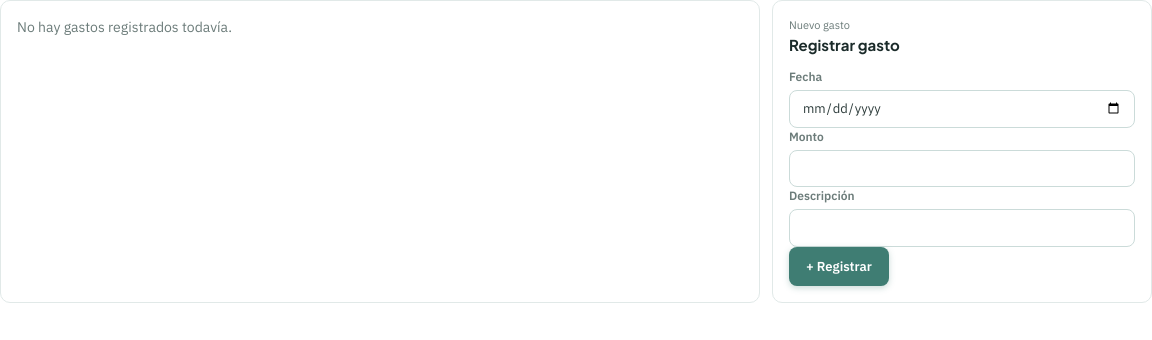
Test: GastosVehiculo › bloquea el alta con monto inválido y muestra el error
The image size is (1152, 340).
Step 1. Type "2026-07-01" into the date field labelled "Fecha" → (962, 109), box [789,90,1135,128]
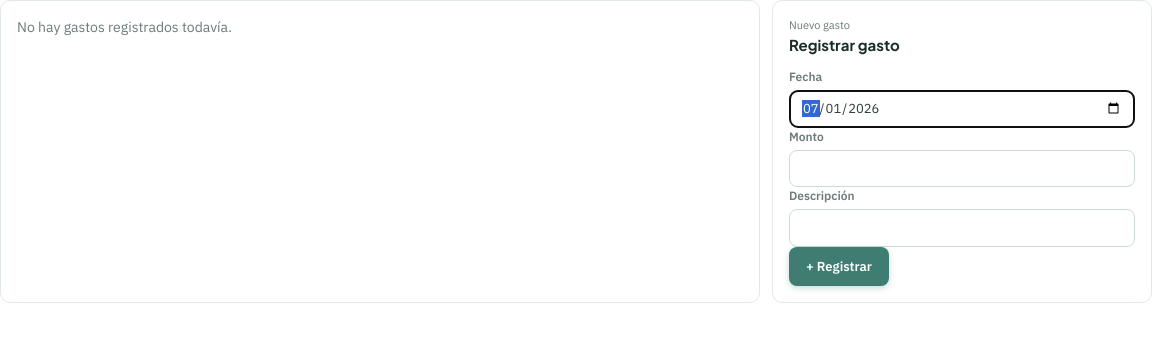
Step 2. Click the button "+ Registrar" → (839, 266), box [789,246,889,286]
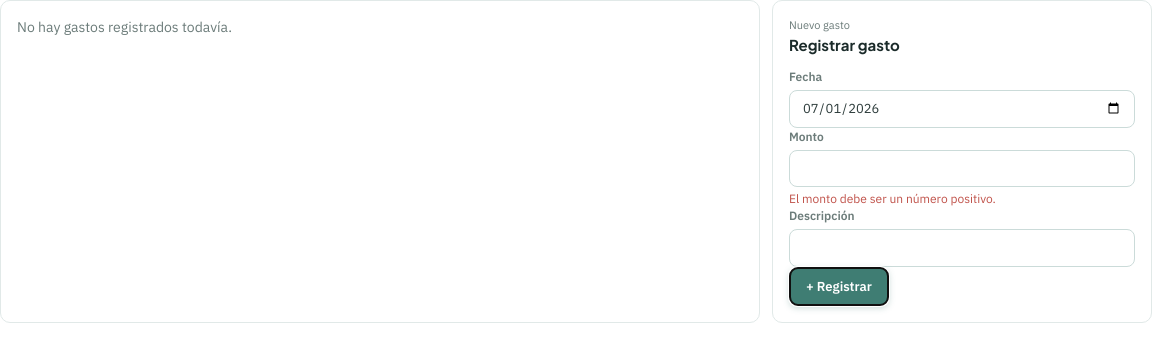
Check: the text "El monto debe ser un número positivo." is shown, box [789,191,996,206]
